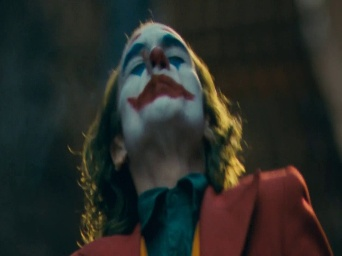smoke: (141, 50, 156, 83)
